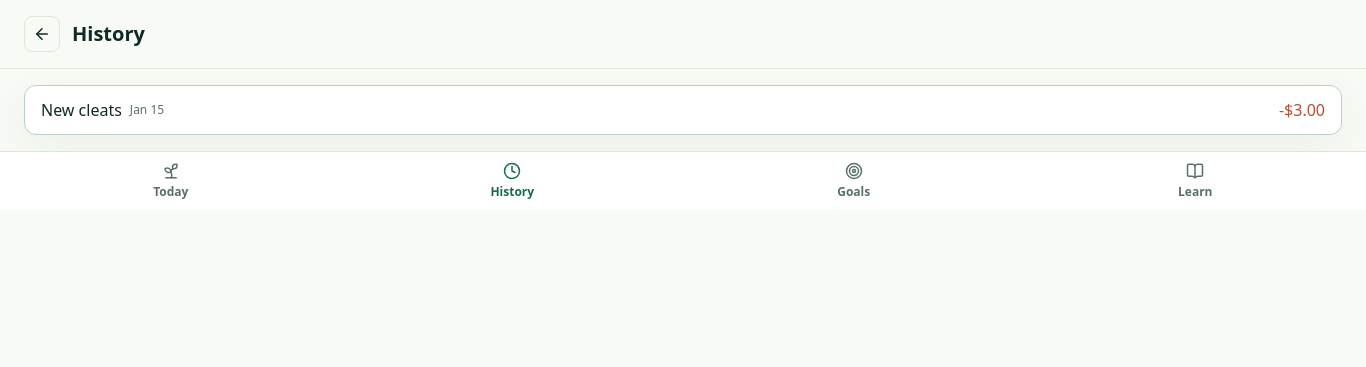
Scenario: HistoryPage › shows every transaction, and expands a discussion-only reflection prompt on tap — nothing stored
Expected: the text "New cleats" is shown, [41,98,122,122]
Expected: the text "What happened?" is not shown
Click the button "New cleats Jan 15 -$3.00" at (81, 110), box [25,86,1341,134]
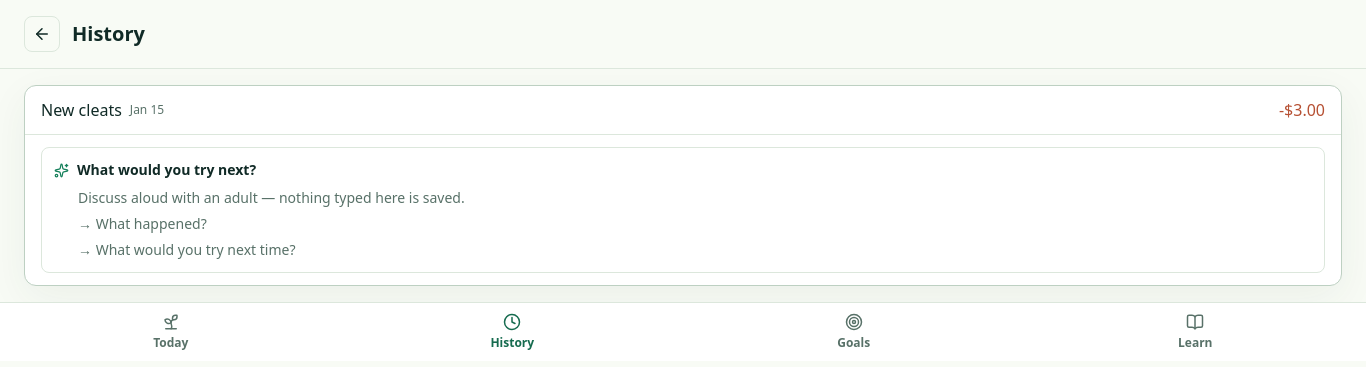
Expected: the text "→ What happened?" is shown, [78,214,207,233]
Expected: the text "→ What would you try next time?" is shown, [78,240,296,259]
Expected: the text "Discuss aloud with an adult — nothing typed here is saved." is shown, [78,188,465,207]
